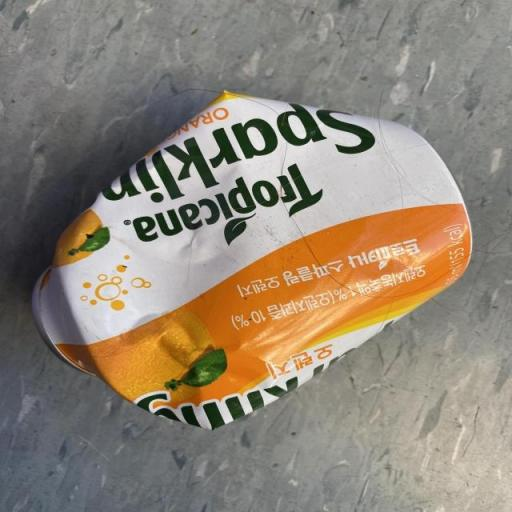metal: (24, 85, 475, 441)
